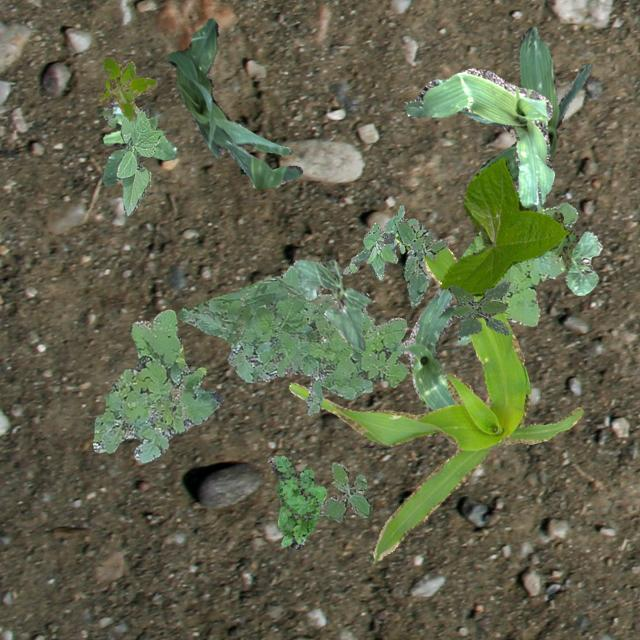crop: (288, 233, 582, 562), (166, 18, 302, 188), (406, 66, 554, 210), (440, 156, 568, 294), (478, 26, 590, 180), (292, 258, 369, 352), (402, 286, 454, 410), (116, 104, 162, 214), (564, 230, 600, 294)
weed: (176, 264, 408, 414), (92, 308, 222, 462), (456, 202, 576, 344), (100, 98, 178, 186), (266, 454, 326, 550), (341, 204, 416, 278), (396, 218, 448, 306), (98, 56, 156, 120), (316, 460, 372, 520), (448, 280, 508, 336), (548, 210, 580, 270)
